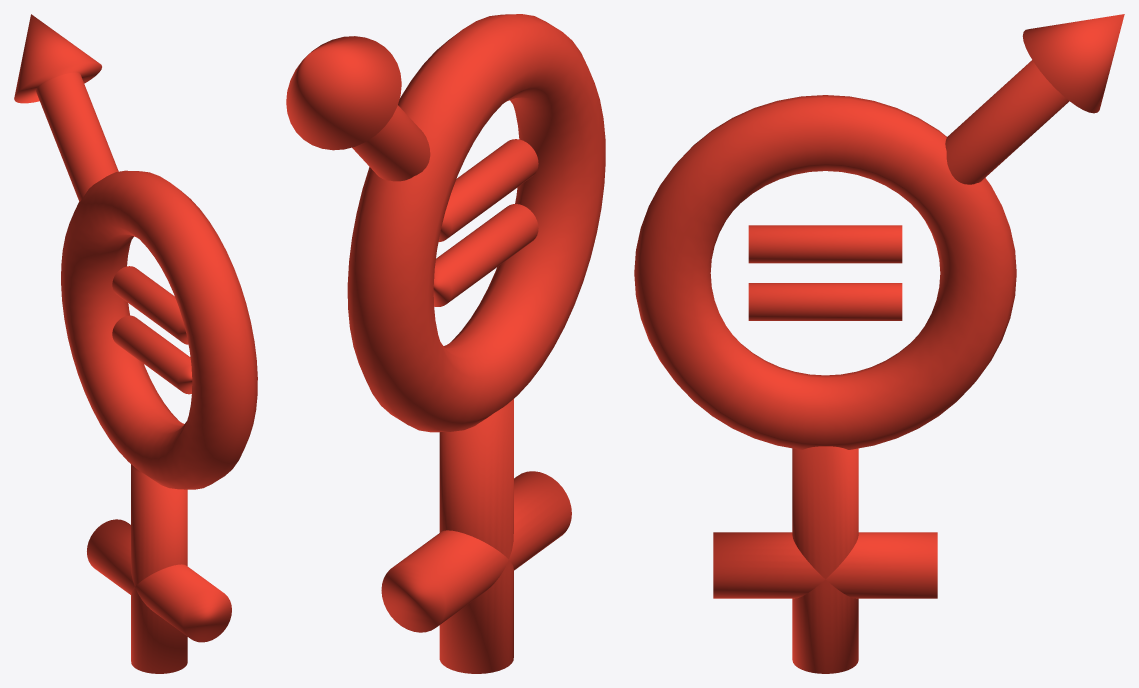
File: 5_goal.glb
3 views of the same model, side by side, from view 1: azimuth 30°, elevation 25°; view 2: azimuth 150°, elevation 25°; view 3: azimuth 270°, elevation 25° (orthographic). The views are drawn at different scales.
Visible parts, largest first — view 1: Cylinder, Cylinder.001, Cylinder.002; view 2: Cylinder, Cylinder.001, Cylinder.002; view 3: Cylinder, Cylinder.002, Cylinder.001.
Boxes of the visible parts, x1,y1,x2,y2 form: Cylinder: [14, 14, 257, 673]; Cylinder.001: [112, 315, 192, 394]; Cylinder.002: [112, 266, 188, 344]; Cylinder: [286, 14, 605, 673]; Cylinder.001: [433, 204, 538, 306]; Cylinder.002: [438, 139, 538, 241]; Cylinder: [634, 14, 1124, 673]; Cylinder.002: [748, 225, 902, 263]; Cylinder.001: [748, 283, 902, 320].
Size of the model in its own units: 0.9693 by 6.29 by 4.33.
1 material, 1 textured.
